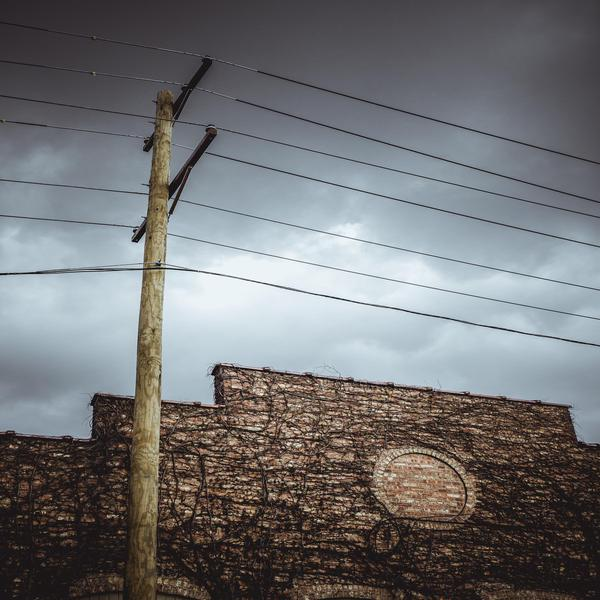utility_pole: (121, 47, 227, 278)
